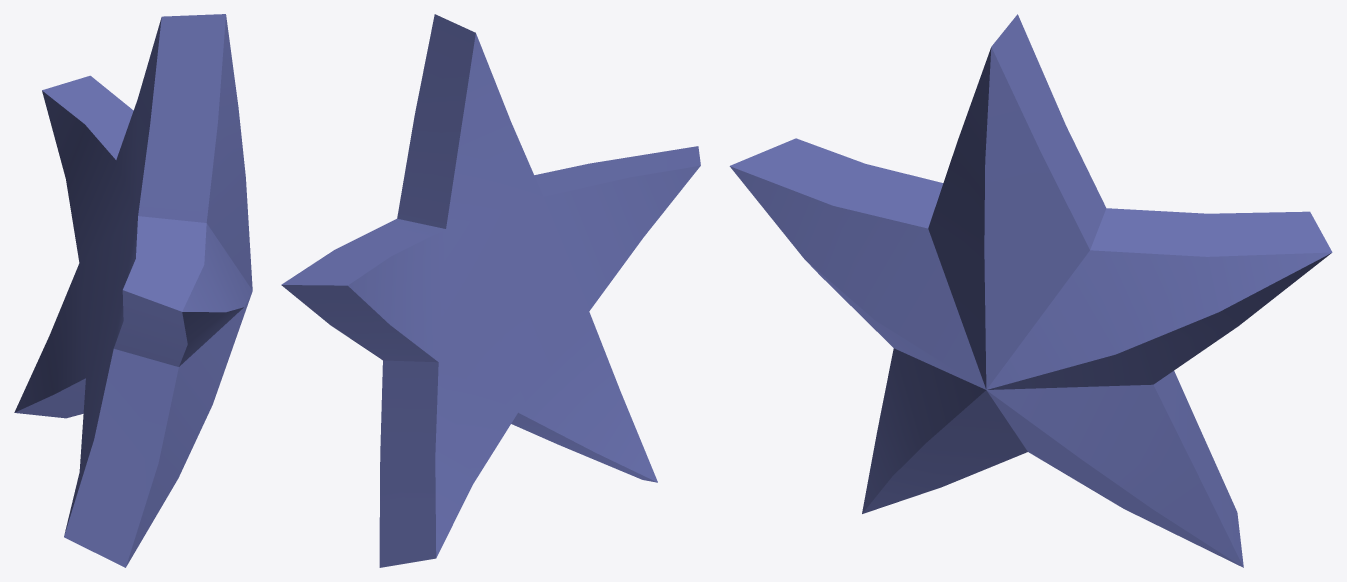
Rendered from TR5_Frame_Star.001 3.glb.
The picture shows the model from 3 angles, left to right: view 1: azimuth 30°, elevation 25°; view 2: azimuth 150°, elevation 25°; view 3: azimuth 270°, elevation 25°; orthographic projection. The views are drawn at different scales.
Parts seen in each view (by area): view 1: TR5_Frame_Star.001; view 2: TR5_Frame_Star.001; view 3: TR5_Frame_Star.001.
Boxes of the visible parts, x1,y1,x2,y2 form: TR5_Frame_Star.001: (14,14,252,567); TR5_Frame_Star.001: (281,14,700,567); TR5_Frame_Star.001: (729,14,1332,567).
Bounding box in the file's own units: 0.2362 × 0.4708 × 0.4605.
